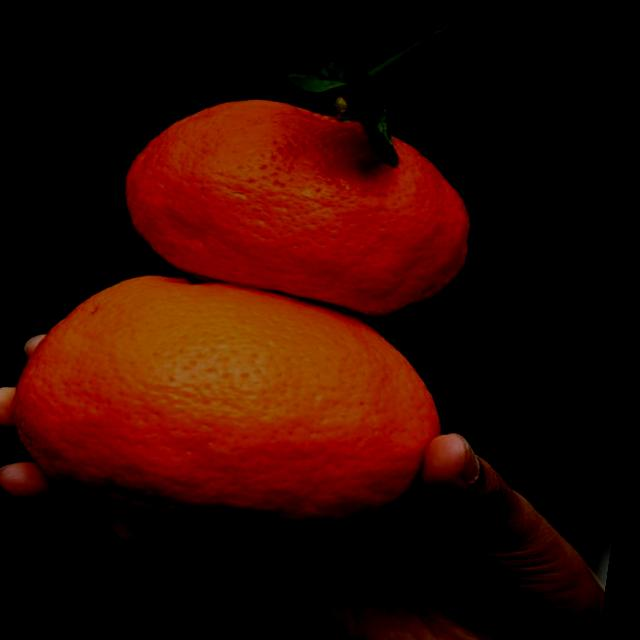Orange: (0, 256, 457, 556), (109, 80, 487, 329)
